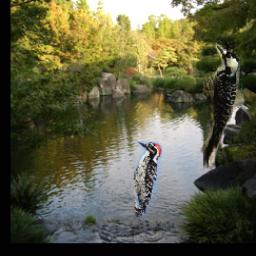Woodpecker: (195, 41, 244, 178), (133, 142, 161, 218)
